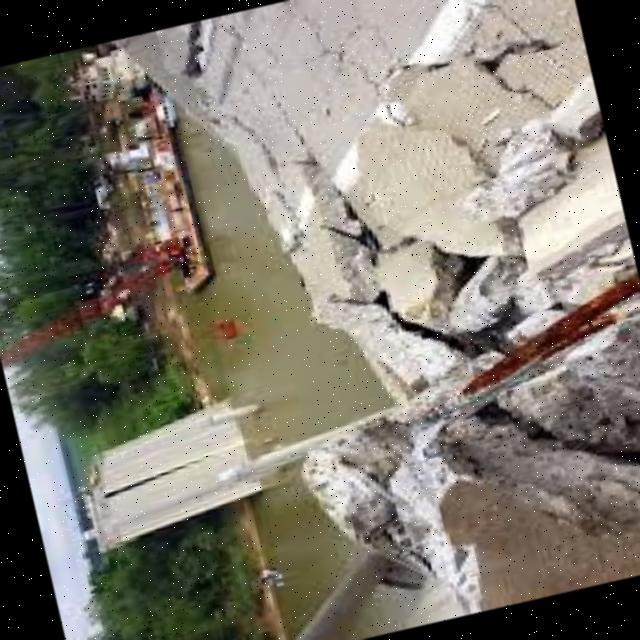bridge collapse: (75, 0, 640, 640)
